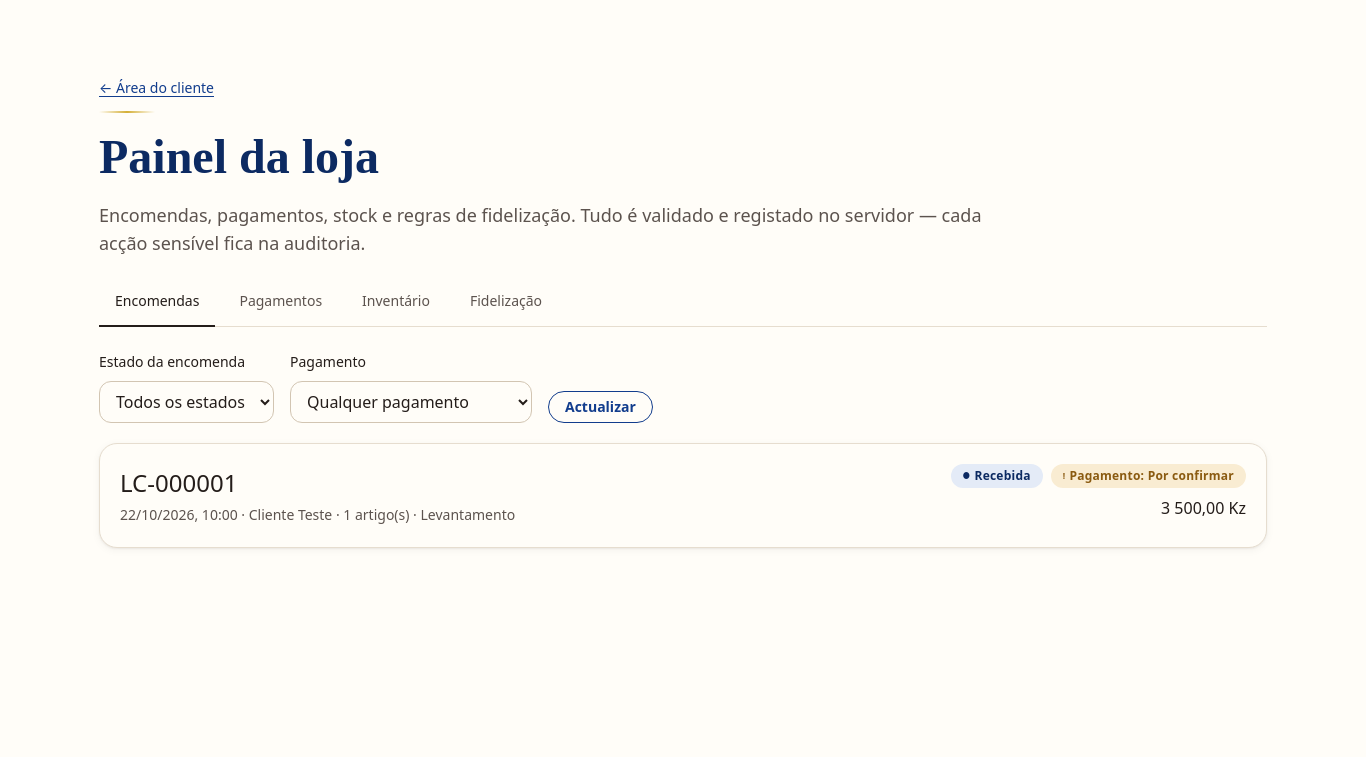
Test: painel: guarda + lista de encomendas › dona vê a lista, filtra pelo servidor e abre o detalhe
Expected: the link "LC-000001" is shown, [120,466,237,499]
Expected: the text "Cliente Teste" is shown, [249,505,332,524]
// Filtro: o pedido leva os parâmetros ao servidor (o backend decide).
Select "Recebidas" in the dropdown labelled "Estado da encomenda" at (186, 402), box [99,381,274,423]
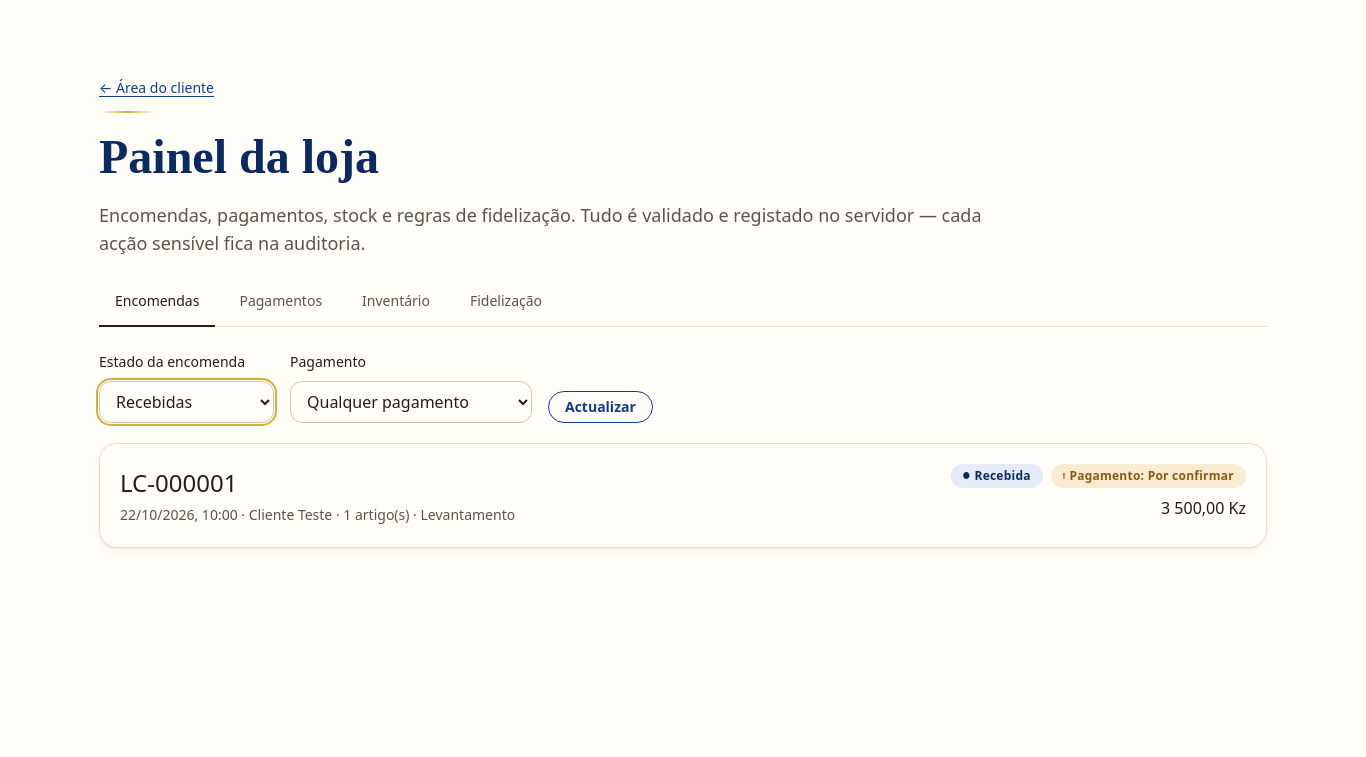
// Navegação para o detalhe.
Click the link "LC-000001".
click(179, 482)  # box [120,466,237,499]
(page scrolled)
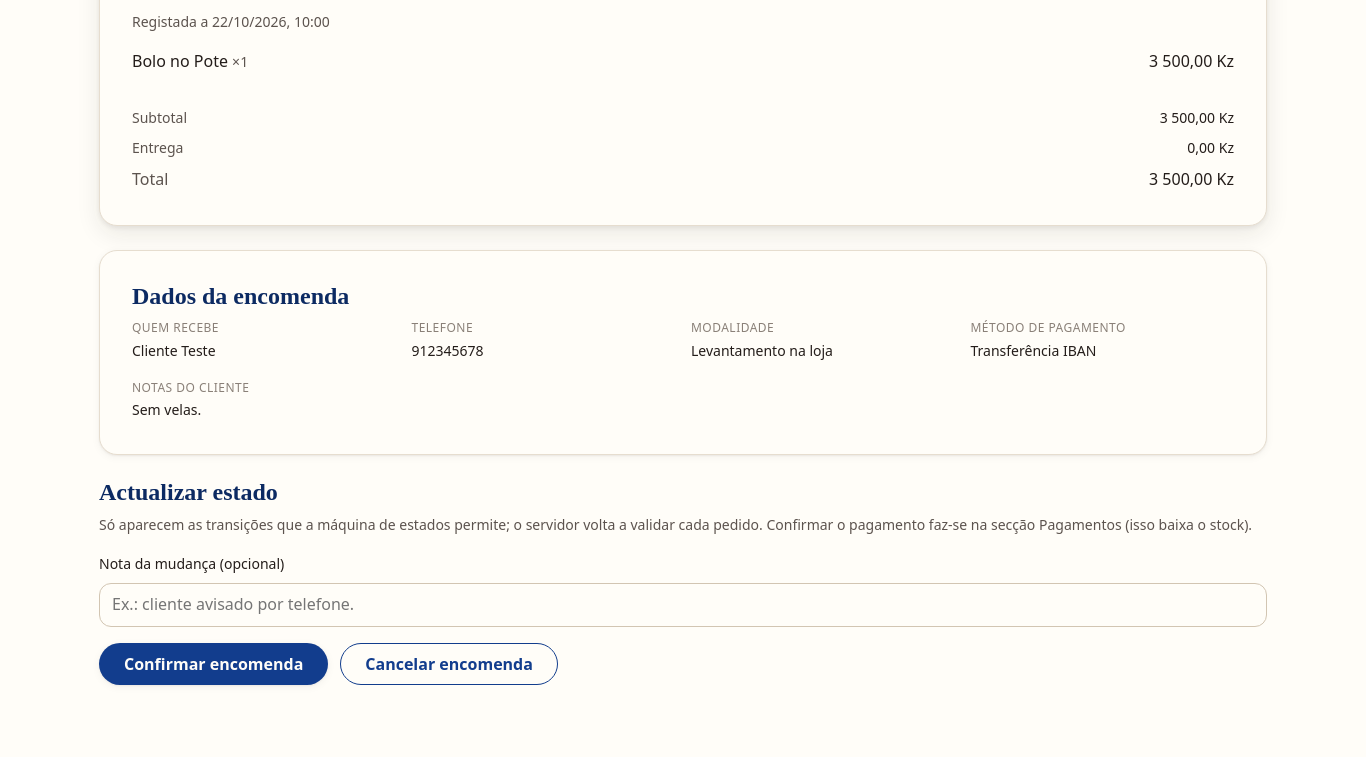
Result: the text "Sem velas." is shown at [132,400,201,419]
Result: the button "Confirmar encomenda" is shown at [99,643,328,685]
